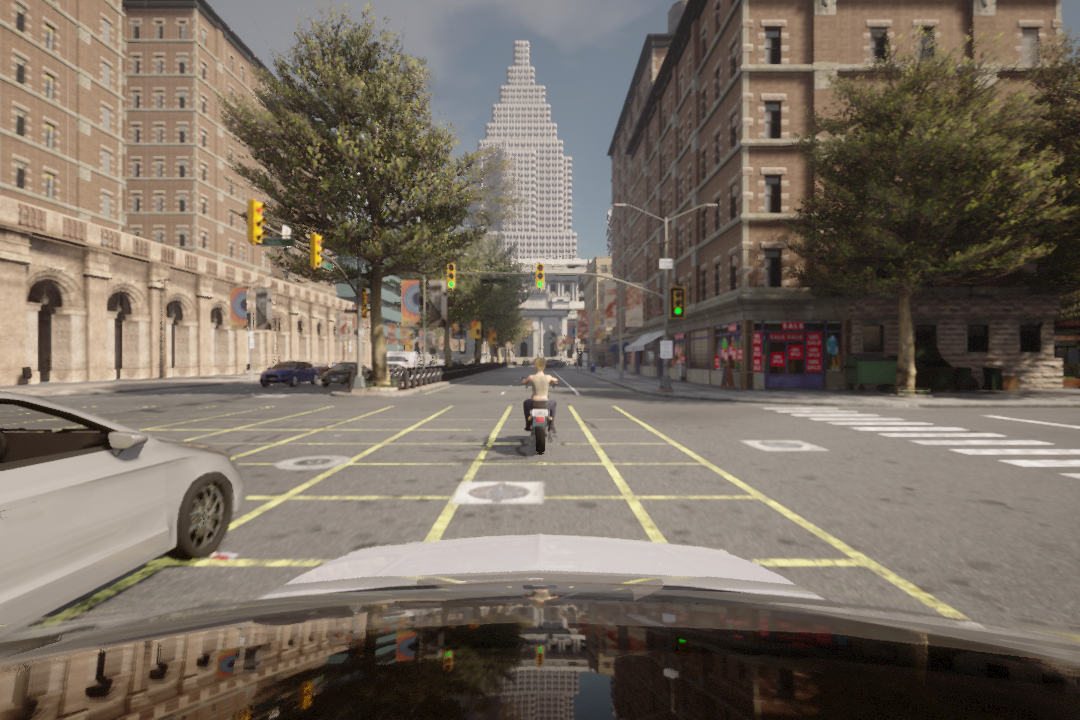TrafficLight: (667, 284, 687, 321), (442, 262, 458, 296), (533, 262, 547, 292)
walkside: (752, 400, 1080, 488)
